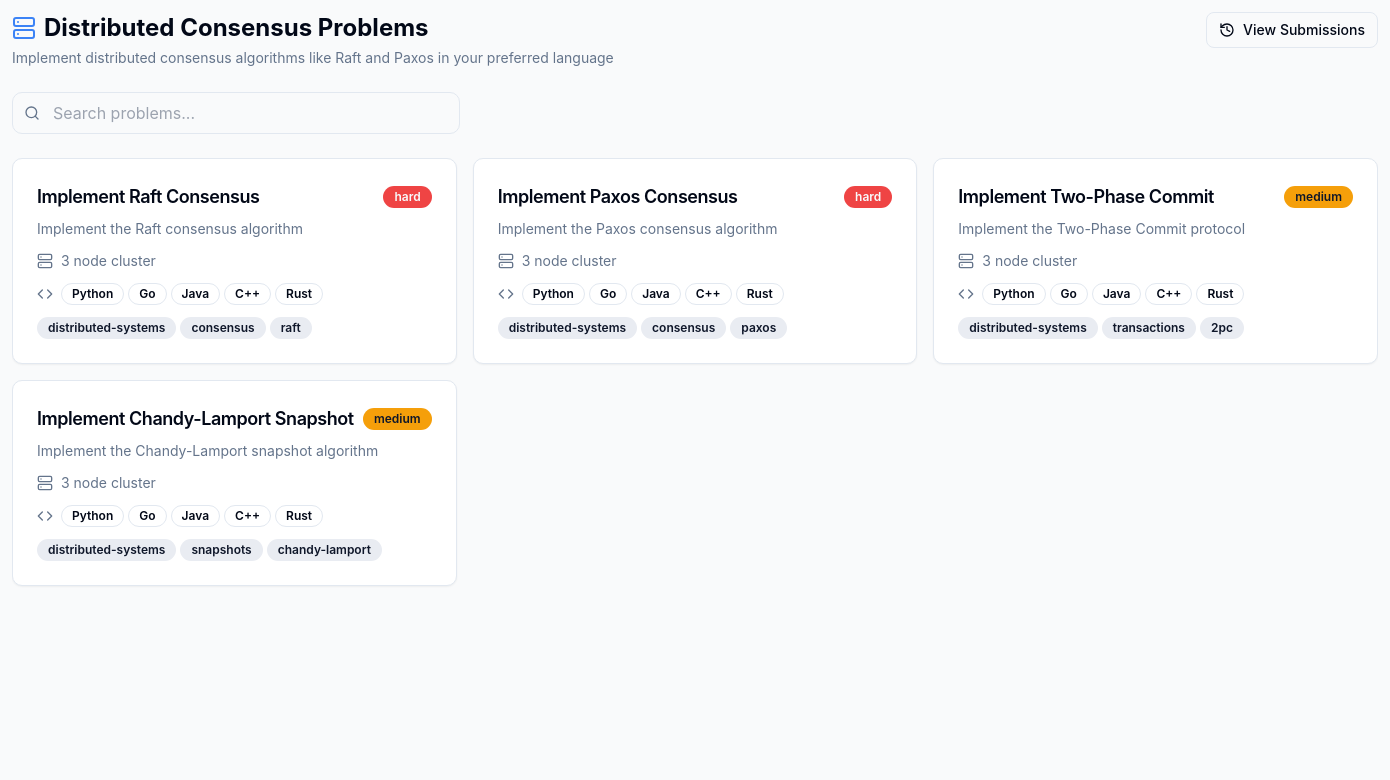
DistributedProblemList › filters problems by search
Expected: the heading "Implement Raft Consensus" is shown, [37,183,260,211]
In the field with placeholder "Search problems...": (236, 113) [12,92,460,134], type "Paxos"
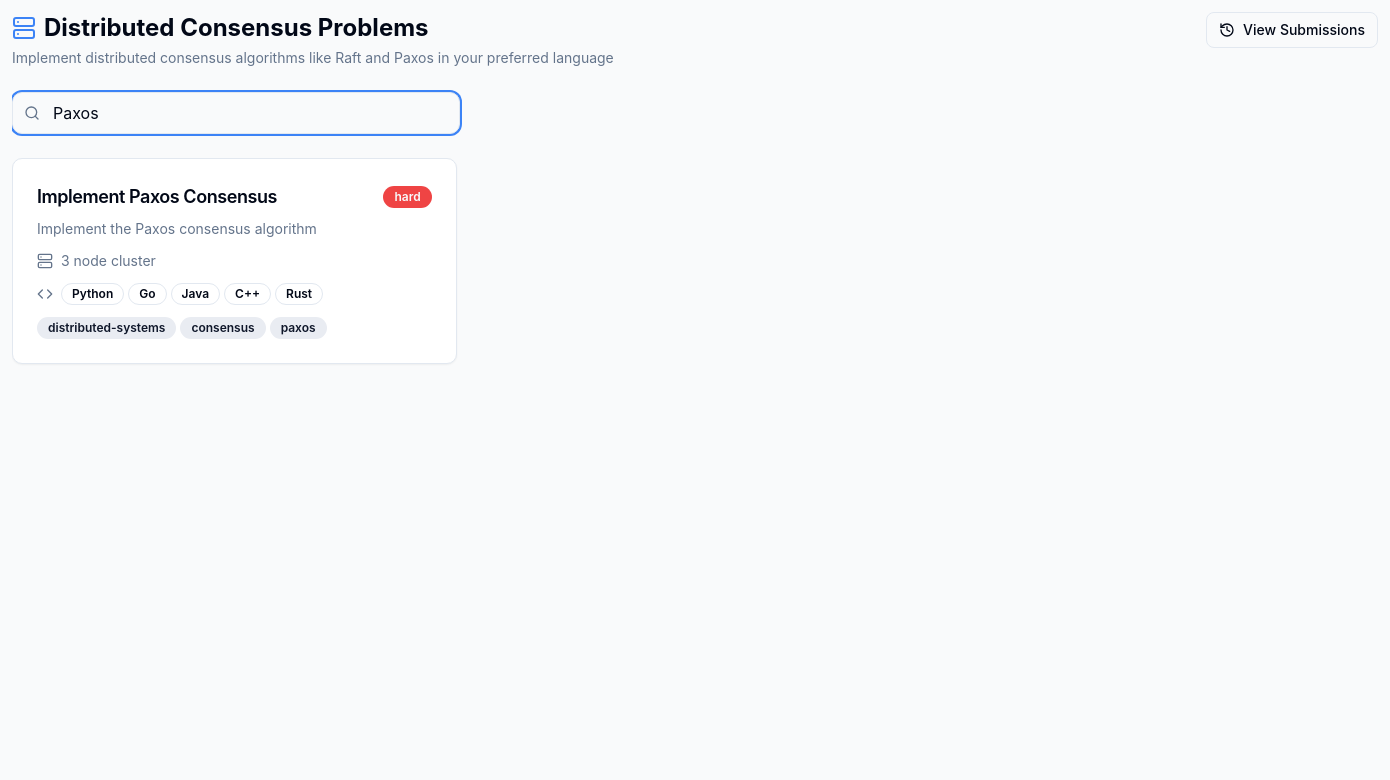
Expected: the heading "Implement Paxos Consensus" is shown, [37,183,277,211]
Now the link "Implement Raft Consensus" is gone
